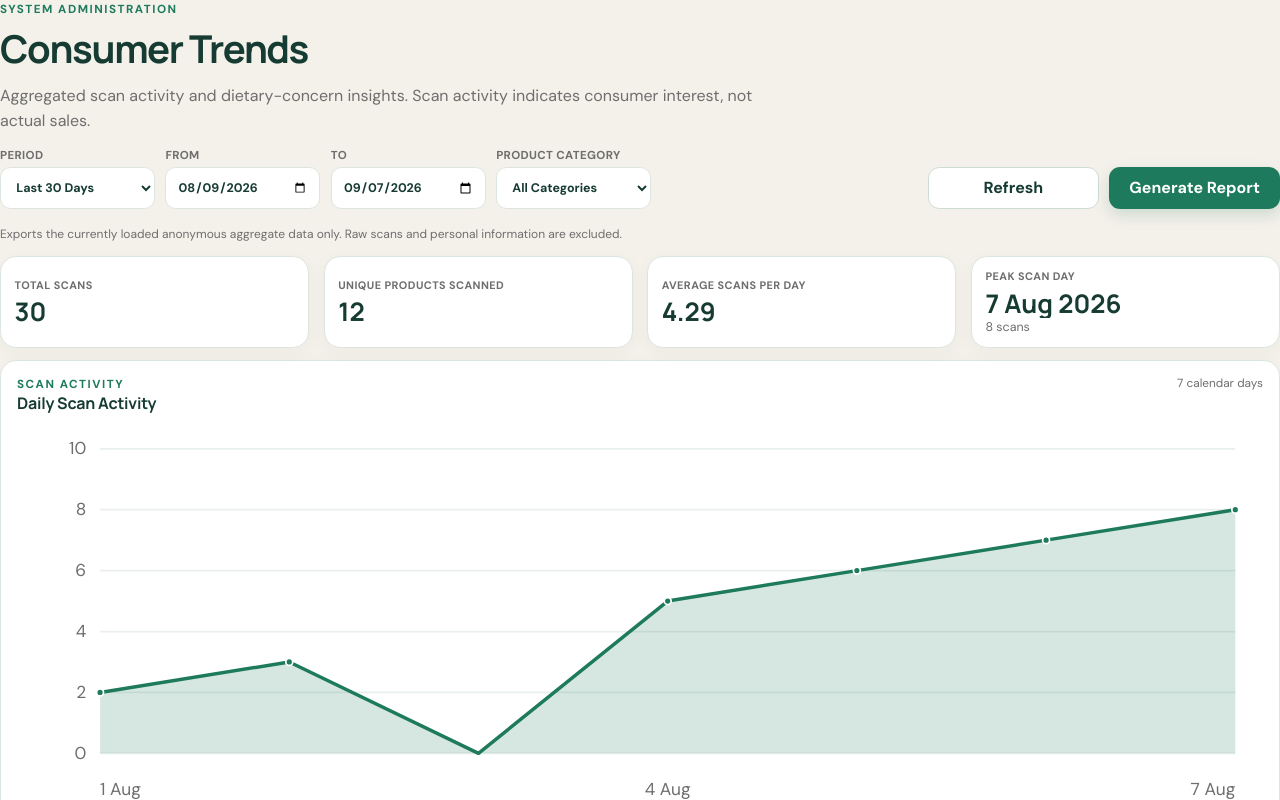
Test: ConsumerTrendsPage › generates a report from the loaded filtered response without another analytics request
Expected: the heading "Daily Scan Activity" is shown, [17,394,156,412]
Step 1. Select "Snacks" in the dropdown labelled "Product Category" → (574, 188), box [496,167,651,209]
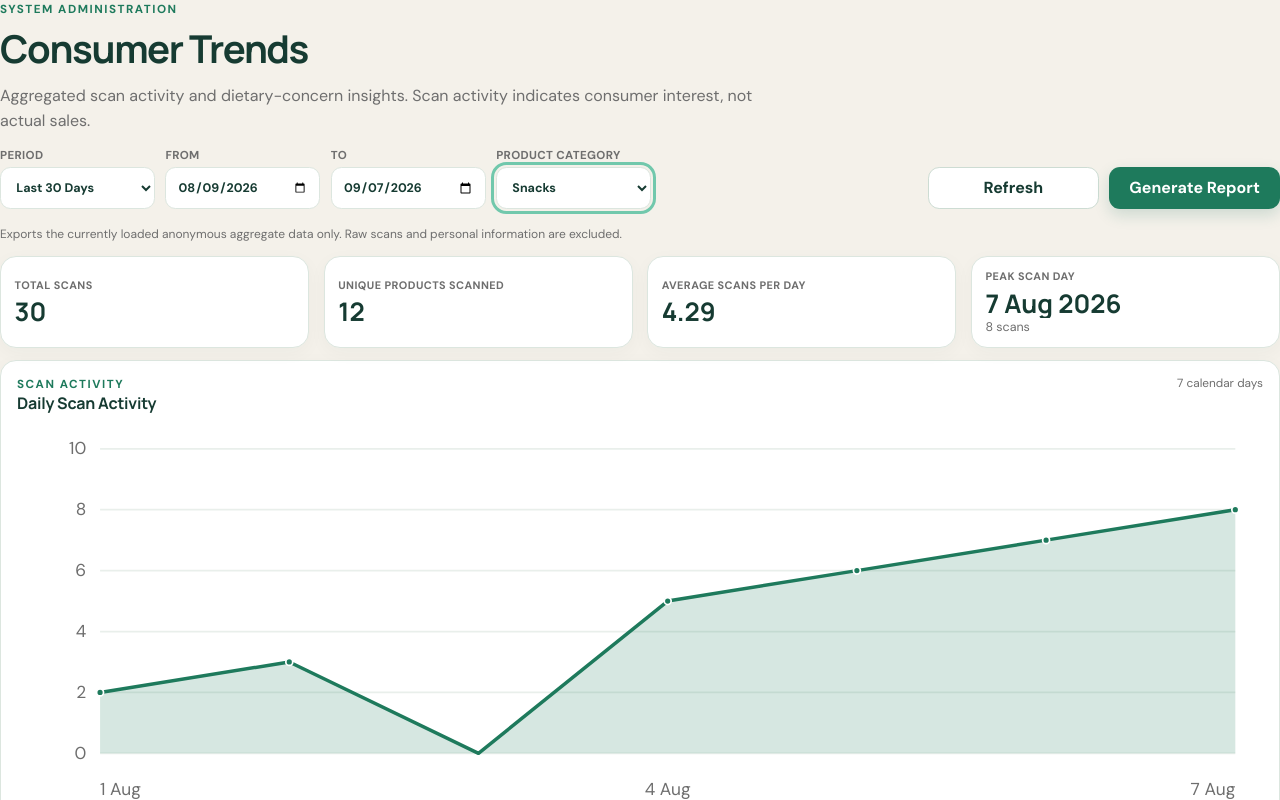
Step 2. Click the button "Generate Report" → (1195, 188), box [1109,167,1279,209]
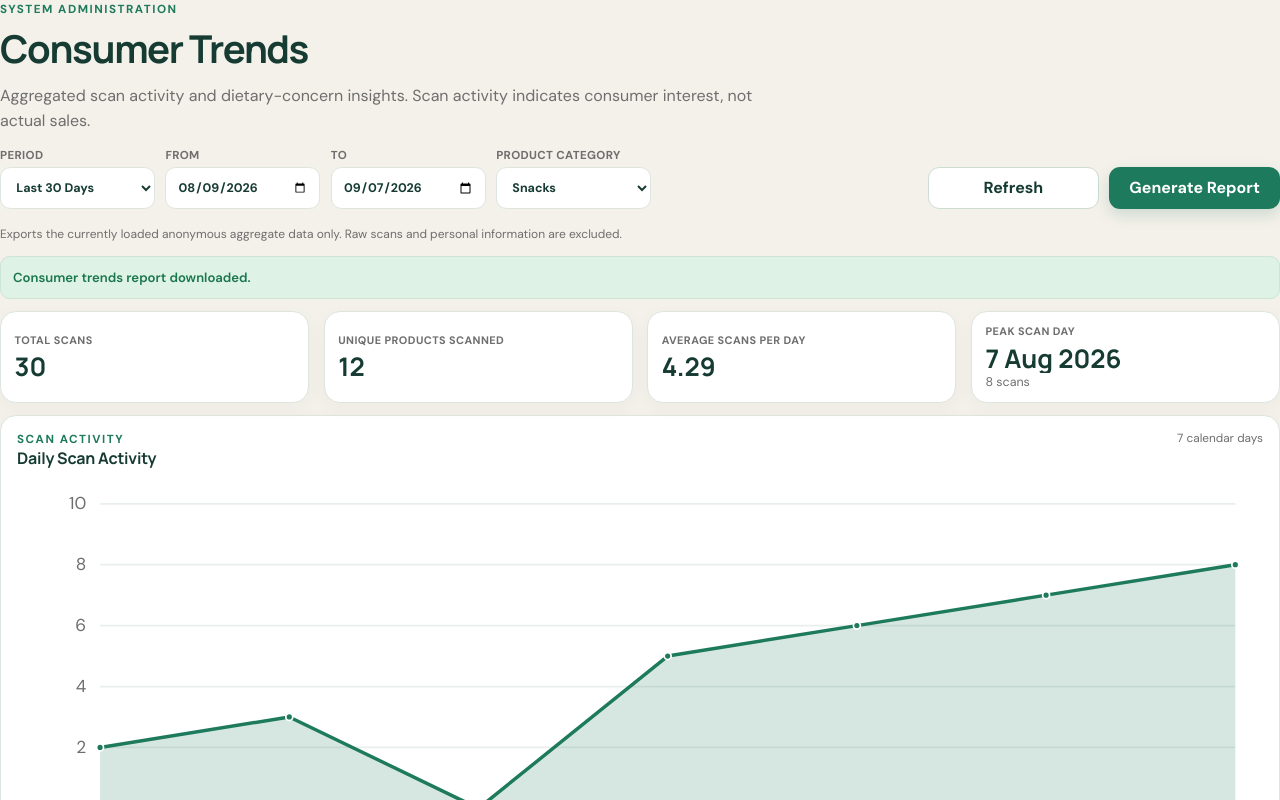
Now the text "Consumer trends report downloaded." is shown, box [0,256,1279,299]
